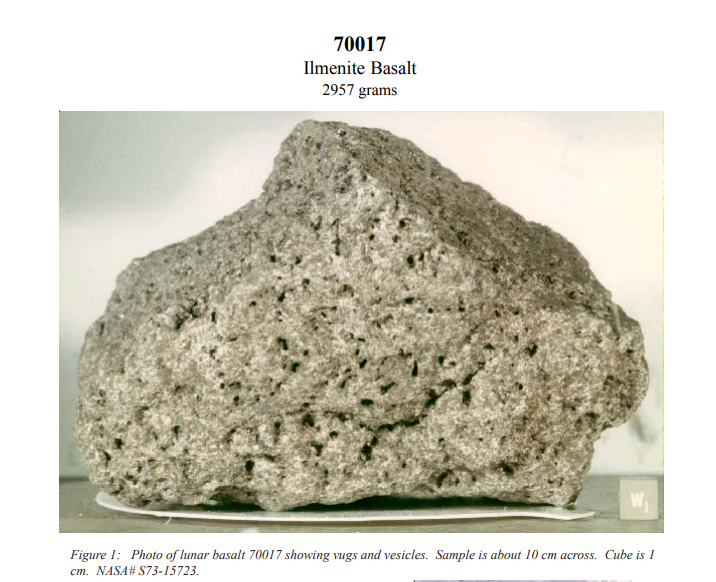Basalt: (74, 124, 579, 503)
